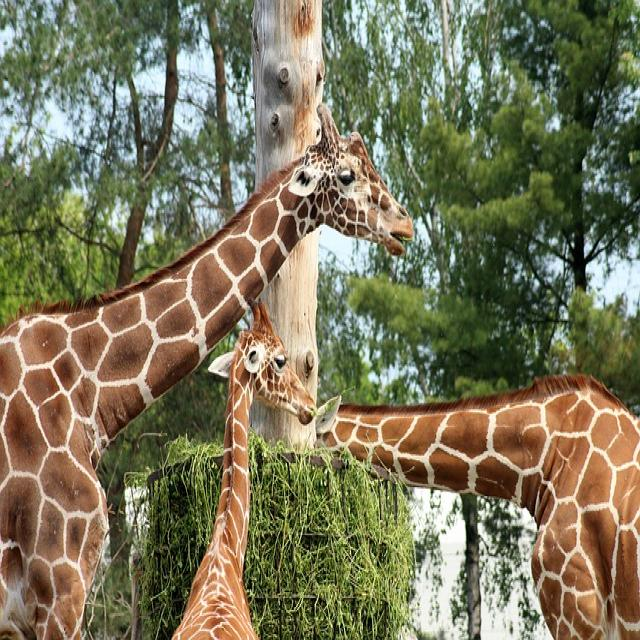Herbivorous: (0, 114, 416, 640), (310, 375, 640, 640), (171, 300, 314, 640)
